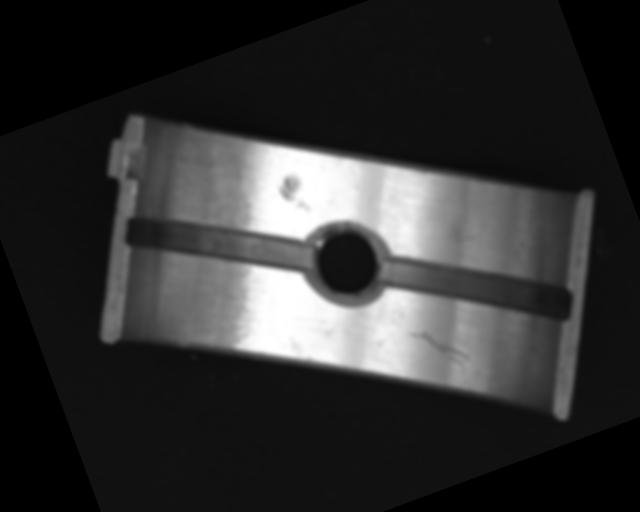bruise: (275, 170, 312, 219)
gap: (377, 203, 580, 374), (121, 164, 315, 326)
hole: (297, 210, 400, 312)
nick: (409, 312, 472, 379), (454, 228, 483, 244)
